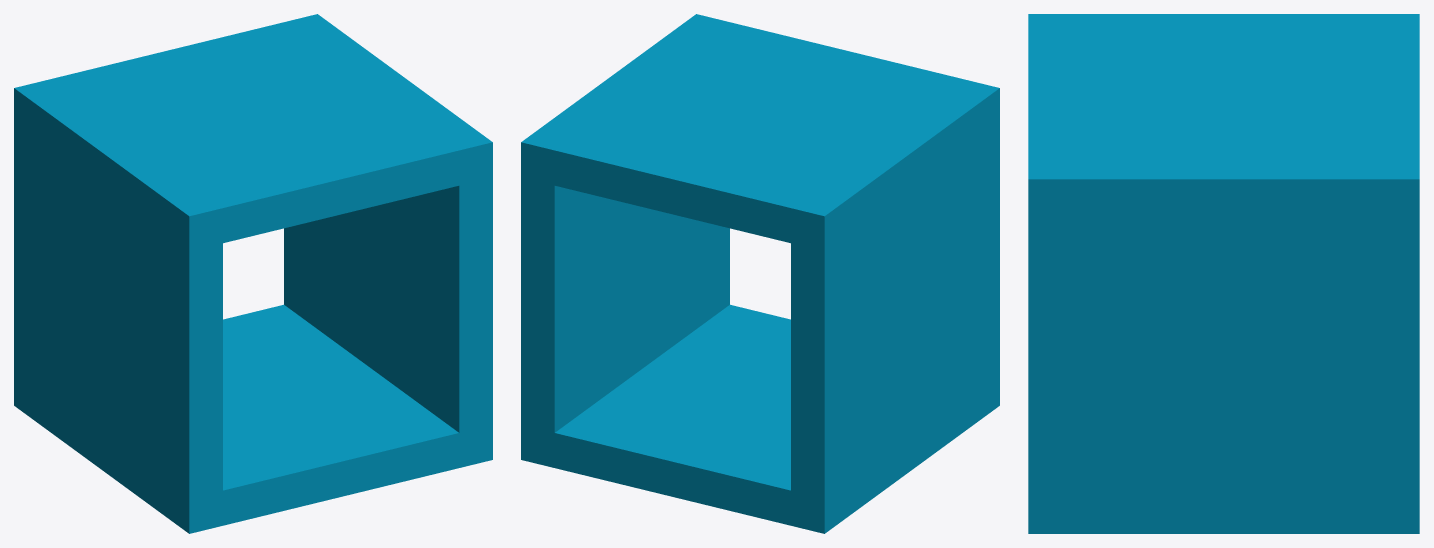
Rendered from window.obj.
3 renders of one model, left to right at view 1: azimuth 30°, elevation 25°; view 2: azimuth 150°, elevation 25°; view 3: azimuth 270°, elevation 25°, orthographic. The views are drawn at different scales.
Visible parts, largest first — view 1: window_Mesh; view 2: window_Mesh; view 3: window_Mesh.
Boxes of the visible parts, box(x1,y1,x2,y2) form: window_Mesh: box(14, 14, 492, 533); window_Mesh: box(521, 14, 999, 533); window_Mesh: box(1028, 14, 1419, 533).
Bounding box in the file's own units: 1 × 1 × 1.
